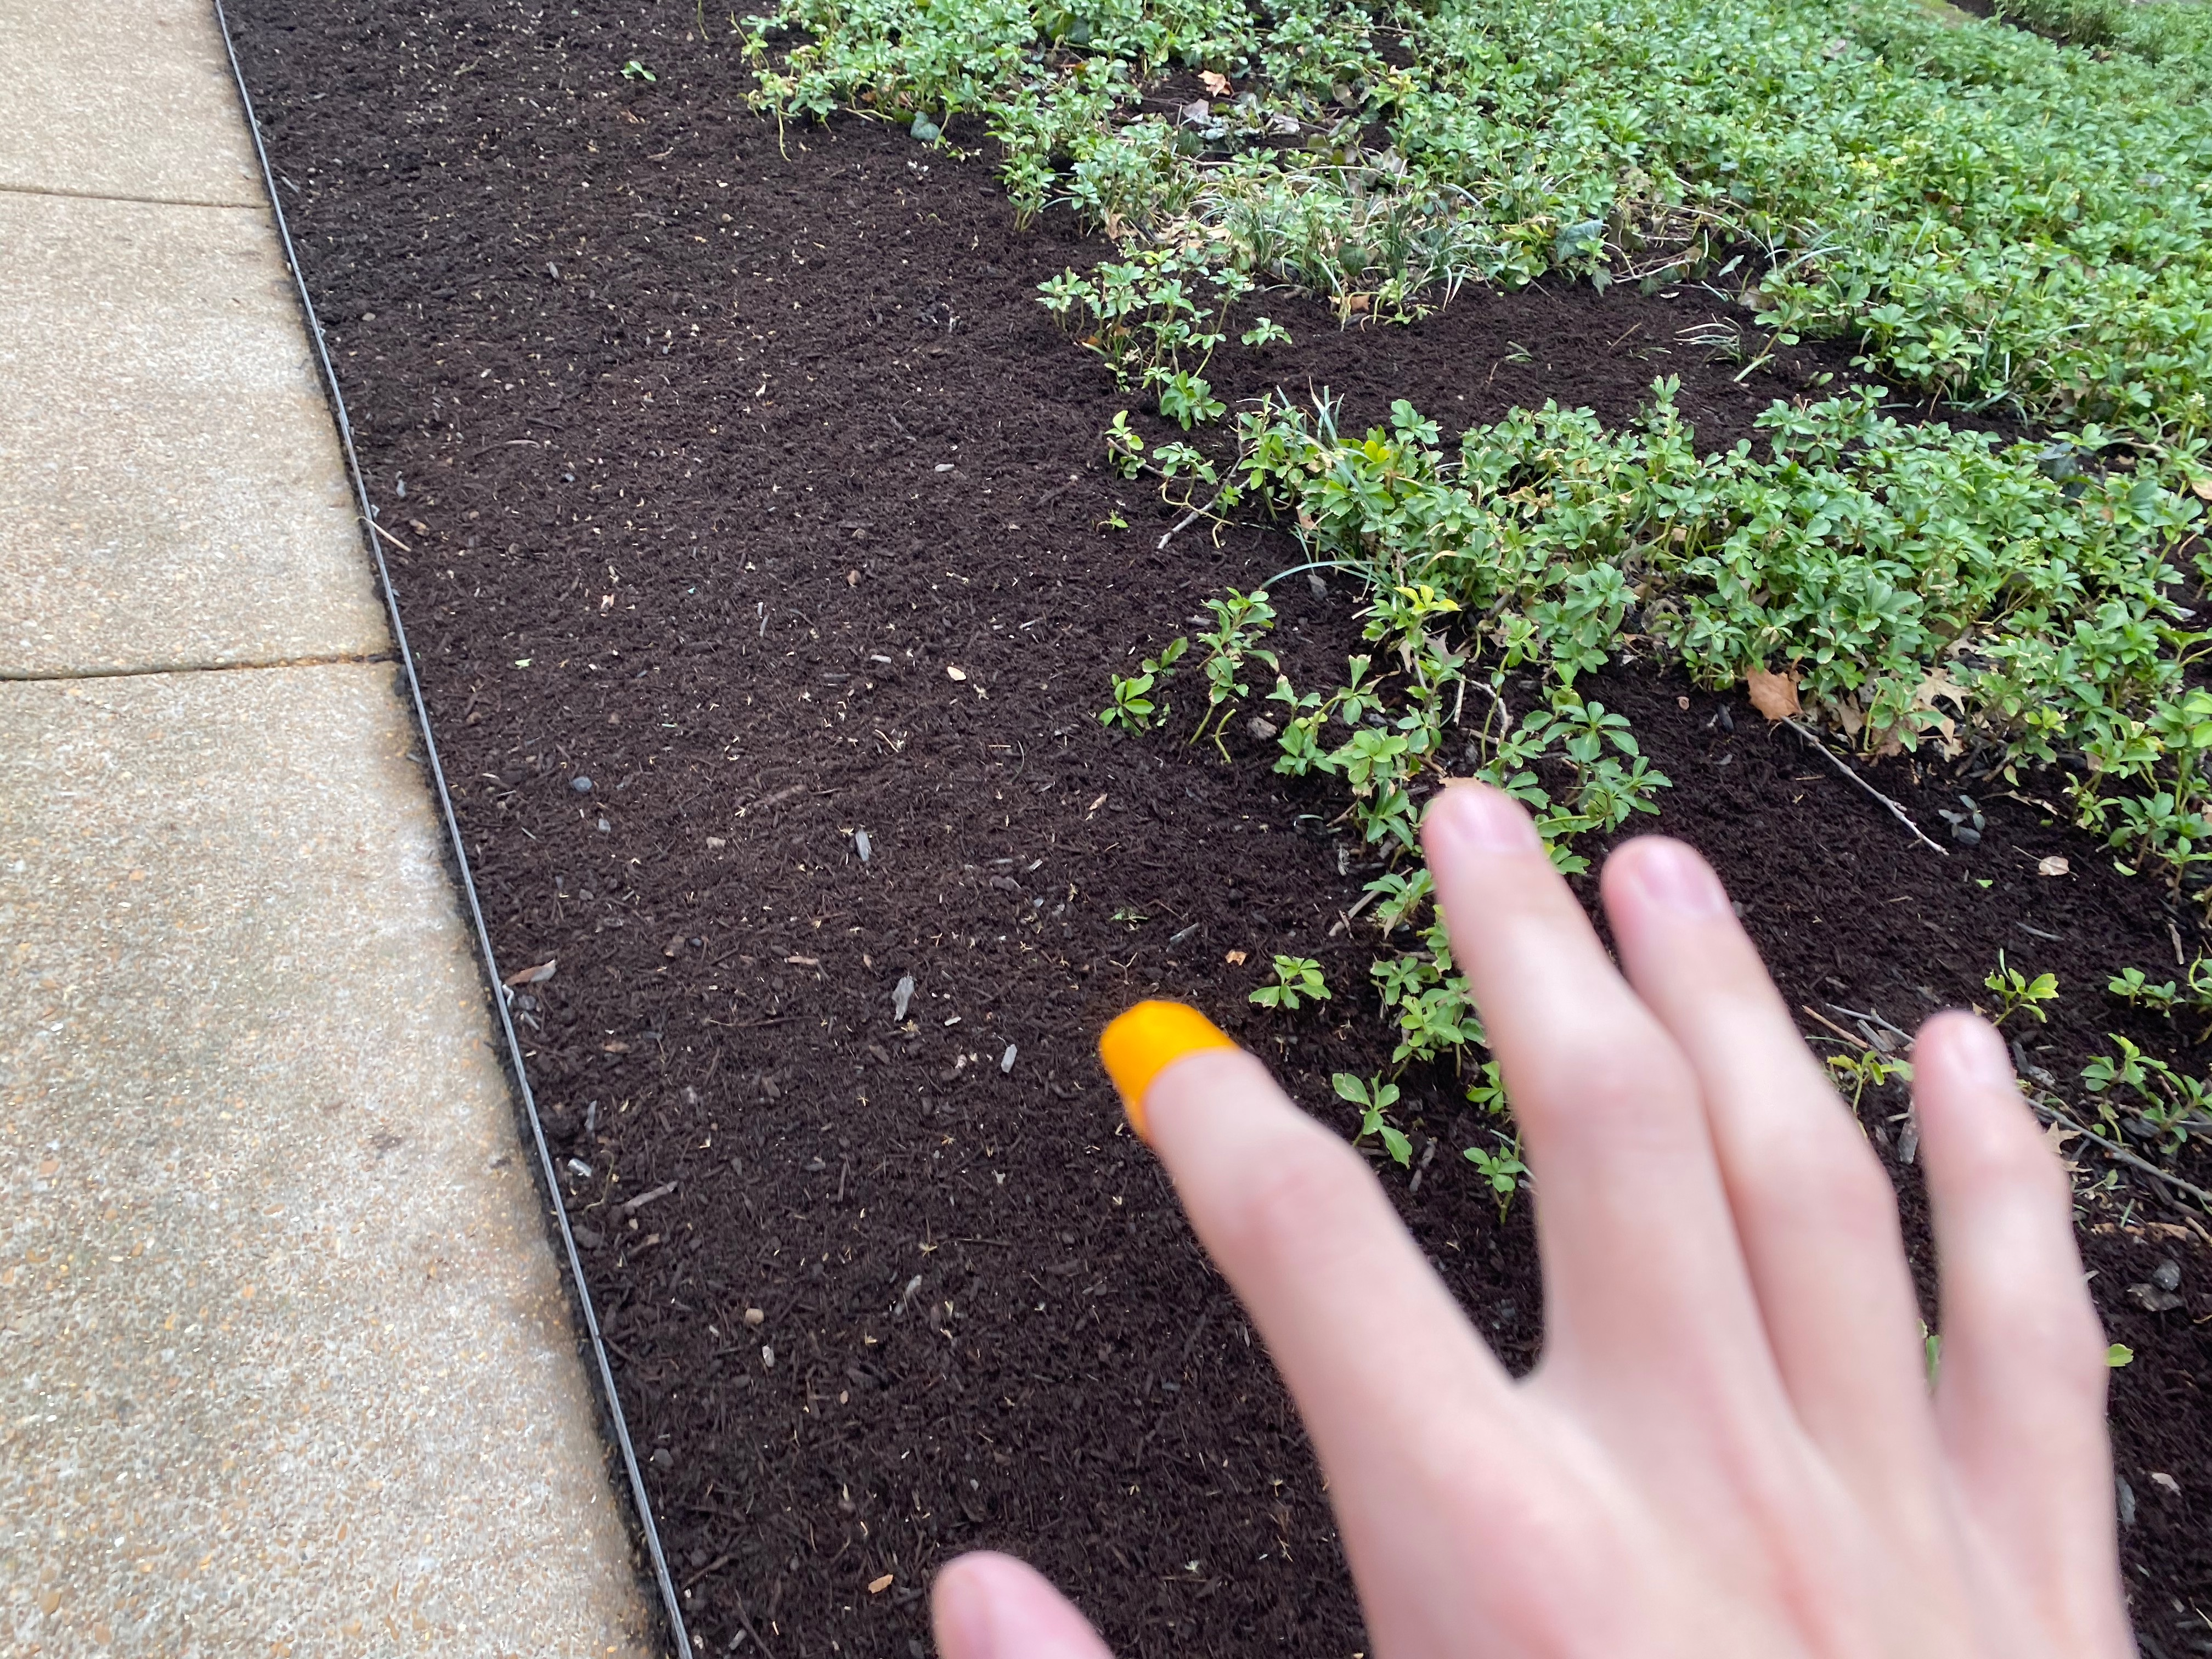fingertip: (1066, 983, 1252, 1136)
